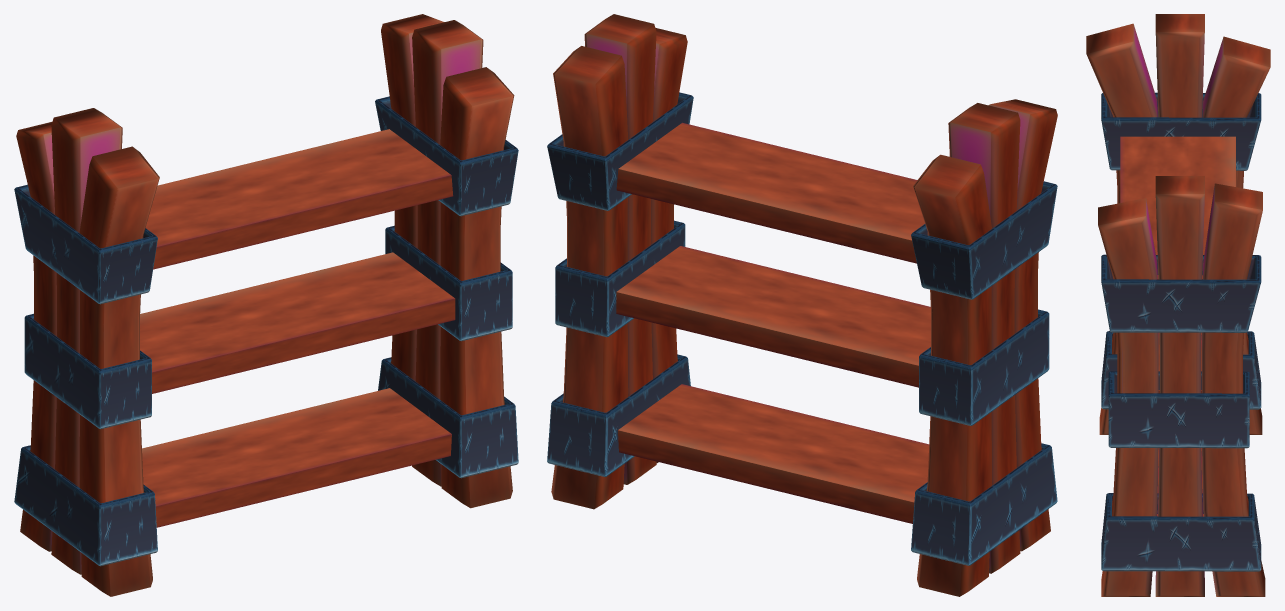
The model's file is regal_1.fbx.
3 renders of one model, left to right at view 1: azimuth 30°, elevation 25°; view 2: azimuth 150°, elevation 25°; view 3: azimuth 270°, elevation 25°, orthographic. The views are drawn at different scales.
Visible parts, largest first — view 1: l_leg.021, l_leg.020, wall_v2.001, wall_v2.007, wall_v2.002, Cube.017, Cube.018, Cube.016, Cube.014, Cube.013, Cube.015; view 2: l_leg.021, l_leg.020, wall_v2.001, wall_v2.007, wall_v2.002, Cube.017, Cube.018, Cube.016, Cube.014, Cube.015, Cube.013; view 3: l_leg.020, l_leg.021, Cube.014, Cube.013, Cube.015, wall_v2.002, Cube.016, Cube.017.
Part boxes in pixels (bbox=[...]): l_leg.021: bbox=[16, 108, 159, 596]; l_leg.020: bbox=[381, 14, 514, 508]; wall_v2.001: bbox=[140, 252, 455, 393]; wall_v2.007: bbox=[142, 388, 451, 527]; wall_v2.002: bbox=[145, 129, 453, 269]; Cube.017: bbox=[14, 445, 157, 566]; Cube.018: bbox=[24, 313, 151, 428]; Cube.016: bbox=[14, 184, 157, 304]; Cube.014: bbox=[378, 357, 518, 478]; Cube.013: bbox=[375, 96, 518, 216]; Cube.015: bbox=[385, 225, 512, 341]; l_leg.021: bbox=[913, 99, 1057, 596]; l_leg.020: bbox=[551, 14, 687, 509]; wall_v2.001: bbox=[616, 246, 930, 387]; wall_v2.007: bbox=[618, 384, 929, 523]; wall_v2.002: bbox=[616, 122, 924, 263]; Cube.017: bbox=[911, 443, 1057, 565]; Cube.018: bbox=[919, 309, 1049, 425]; Cube.016: bbox=[911, 181, 1057, 299]; Cube.014: bbox=[547, 354, 690, 476]; Cube.015: bbox=[555, 220, 685, 337]; Cube.013: bbox=[547, 92, 693, 210]; l_leg.020: bbox=[1098, 176, 1265, 596]; l_leg.021: bbox=[1086, 14, 1270, 434]; Cube.014: bbox=[1101, 493, 1261, 571]; Cube.013: bbox=[1101, 254, 1261, 332]; Cube.015: bbox=[1108, 371, 1249, 448]; wall_v2.002: bbox=[1120, 136, 1235, 279]; Cube.016: bbox=[1101, 92, 1261, 170]; Cube.017: bbox=[1101, 331, 1261, 409].
Size of the model in its own units: 949 by 944 by 391.
